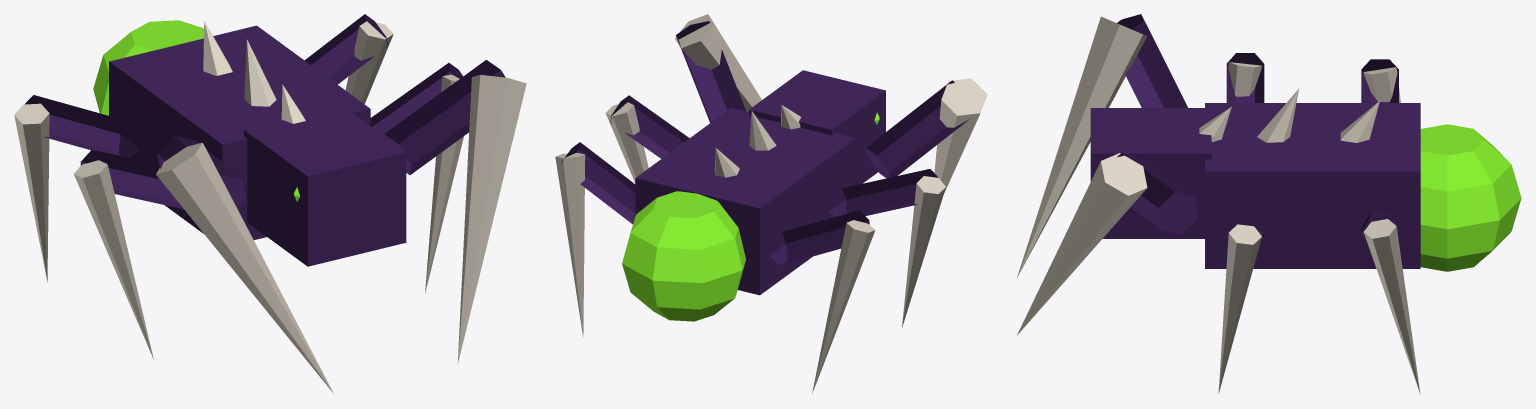
The model's file is krynn_ravager.obj.
The picture shows the model from 3 angles, left to right: view 1: azimuth 30°, elevation 25°; view 2: azimuth 150°, elevation 25°; view 3: azimuth 270°, elevation 25°; orthographic projection. The views are drawn at different scales.
Visible parts, largest first — view 1: ModelMesh; view 2: ModelMesh; view 3: ModelMesh.
Boxes of the visible parts, left/top/right/bottom form: ModelMesh: left=14, top=14, right=526, bottom=394; ModelMesh: left=555, top=14, right=987, bottom=393; ModelMesh: left=1017, top=14, right=1521, bottom=393.
Bounding box in the file's own units: 0.6419 × 0.4033 × 0.75.
